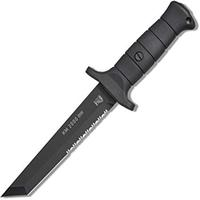knife: (1, 15, 179, 199)
